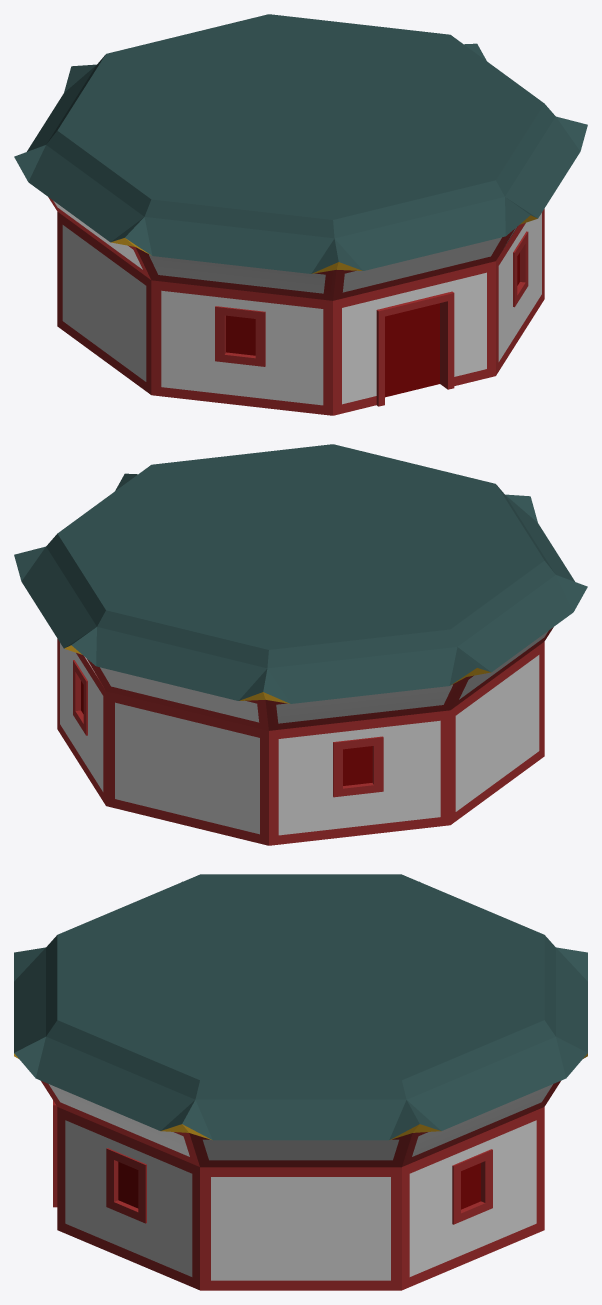
File: Asian_Building_Temple_Pagoda_01.FBX
3 views of the same model, one above another, from view 1: azimuth 30°, elevation 25°; view 2: azimuth 150°, elevation 25°; view 3: azimuth 270°, elevation 25° (orthographic). The views are drawn at different scales.
Visible parts, largest first — view 1: Asian_Building_Temple_Pagoda_01; view 2: Asian_Building_Temple_Pagoda_01; view 3: Asian_Building_Temple_Pagoda_01.
Part boxes in pixels (x1,y1,x2,y2): Asian_Building_Temple_Pagoda_01: [14, 14, 587, 415]; Asian_Building_Temple_Pagoda_01: [14, 444, 587, 845]; Asian_Building_Temple_Pagoda_01: [14, 874, 587, 1290].
Size of the model in its own units: 14699 by 5938 by 14699.
